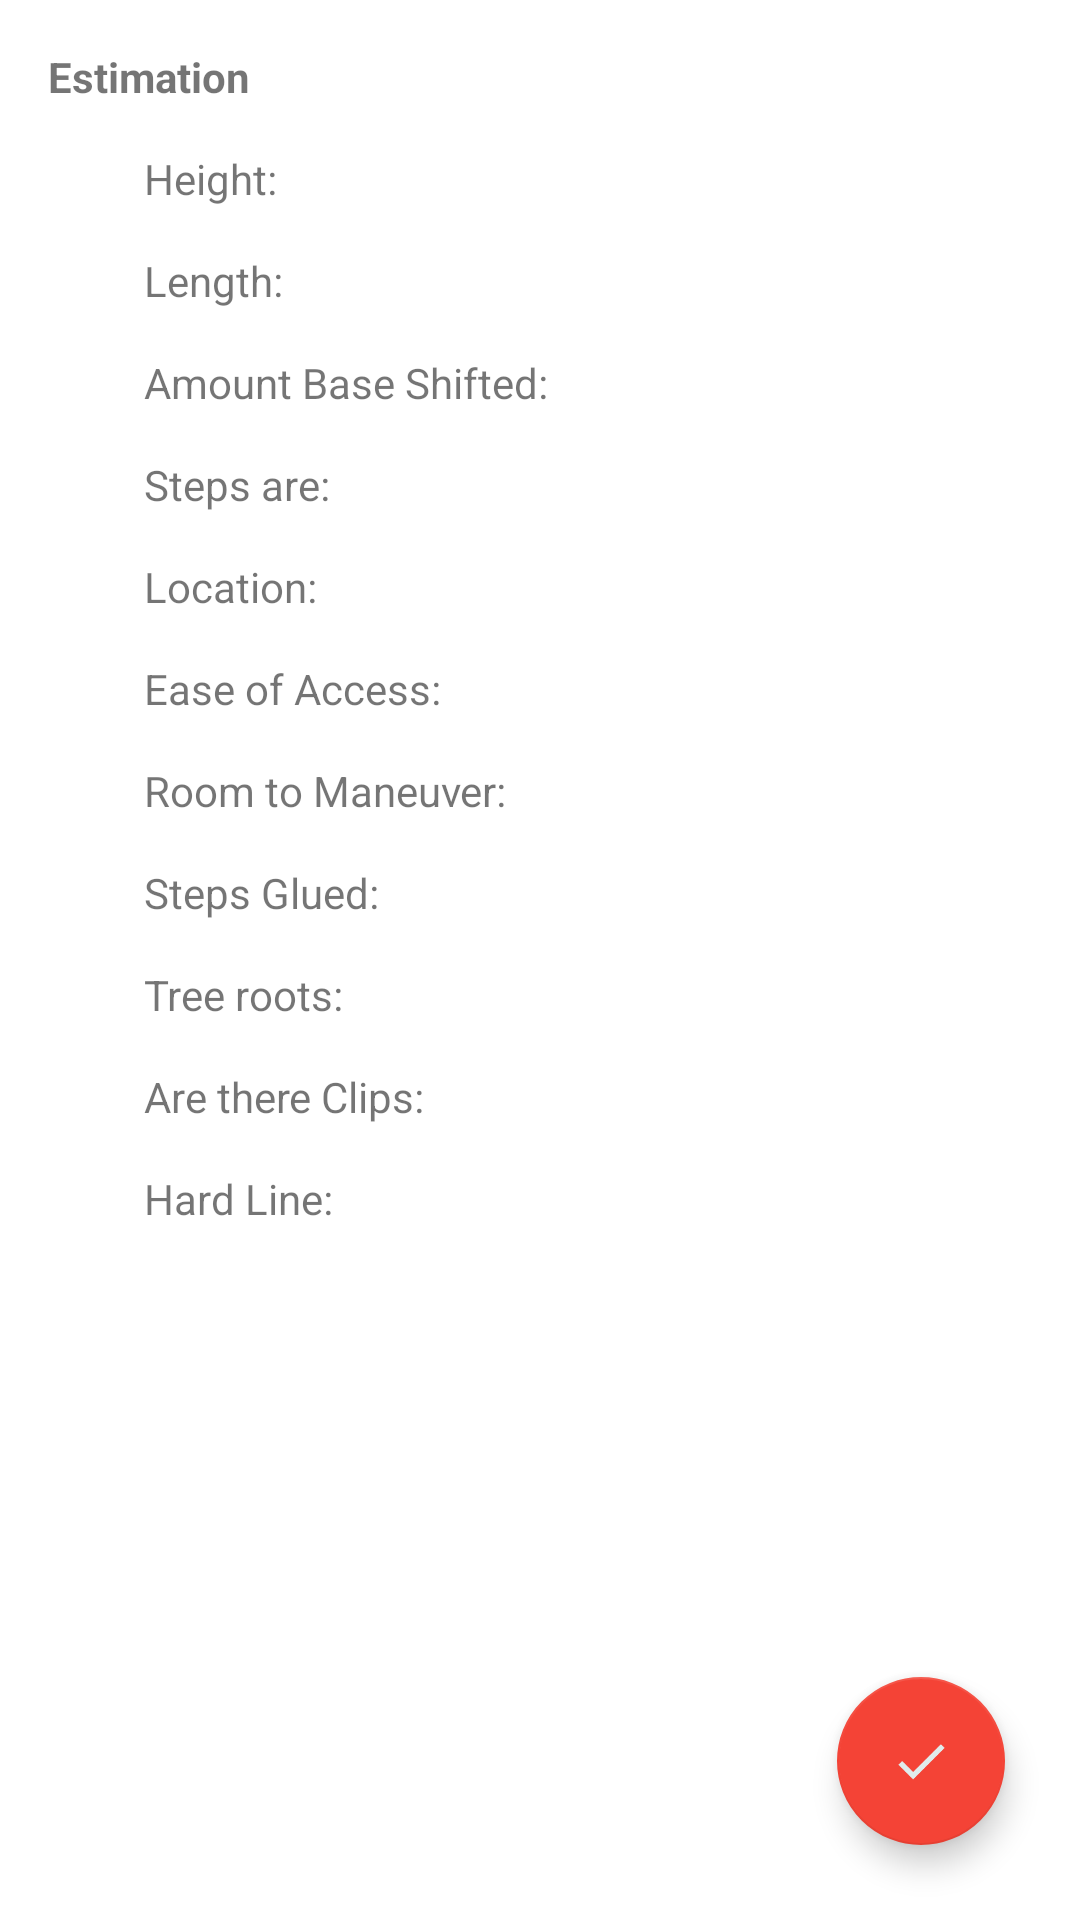

Icons on this 1080x1920 Android screen, each with its box as (x1, y1, x2, y2):
check mark: (837, 1677, 1005, 1845)
